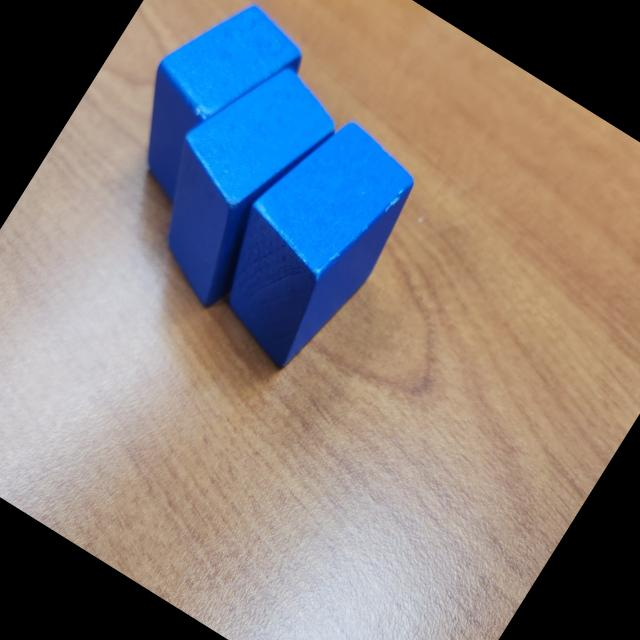blue: (184, 98, 436, 386), (110, 39, 352, 320), (94, 0, 318, 229)
